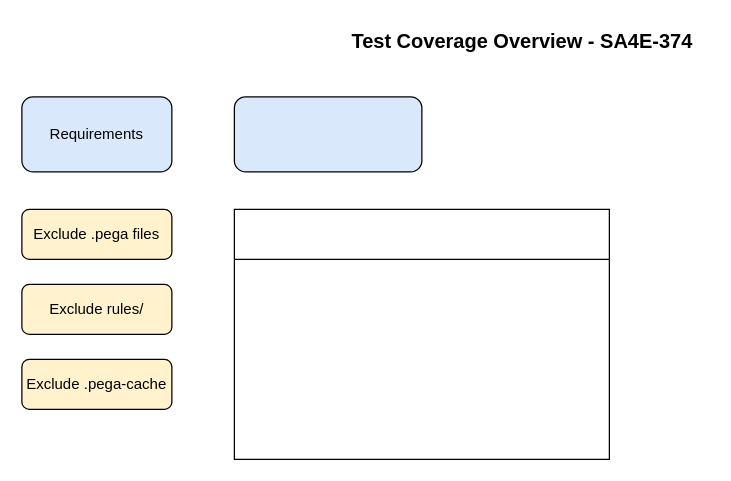
Image size: 731x481. Some labels were removed from this diagram. The centre of each missing label's shape, as x and y in pixels:
"Coverage Matrix" belongs at point 421,333.
"PBT\nUT\nIT\nE2E-API\nE2E-UI\nSIT" belongs at point 327,134.
